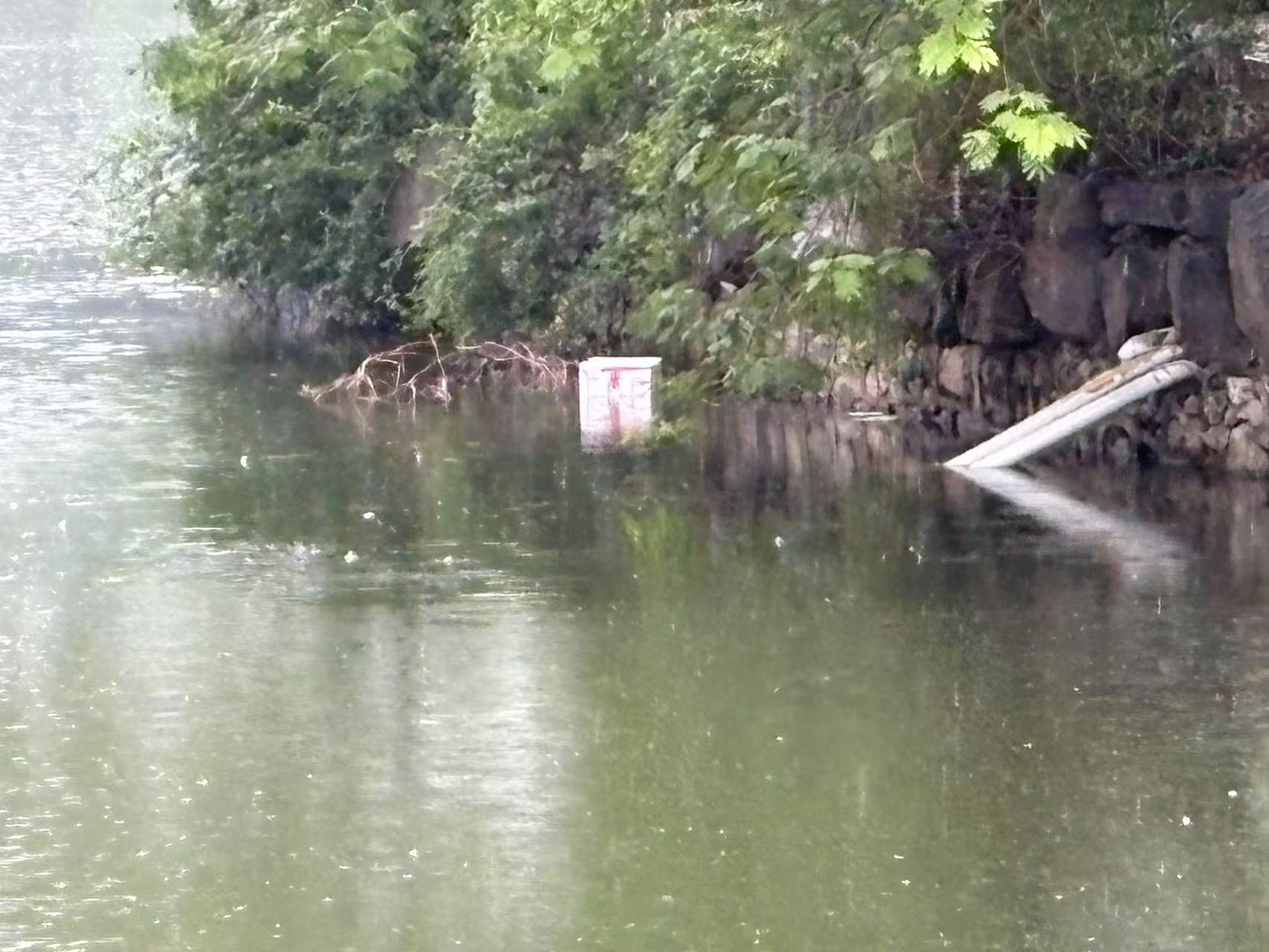Plastic wastes: (572, 353, 659, 416)
